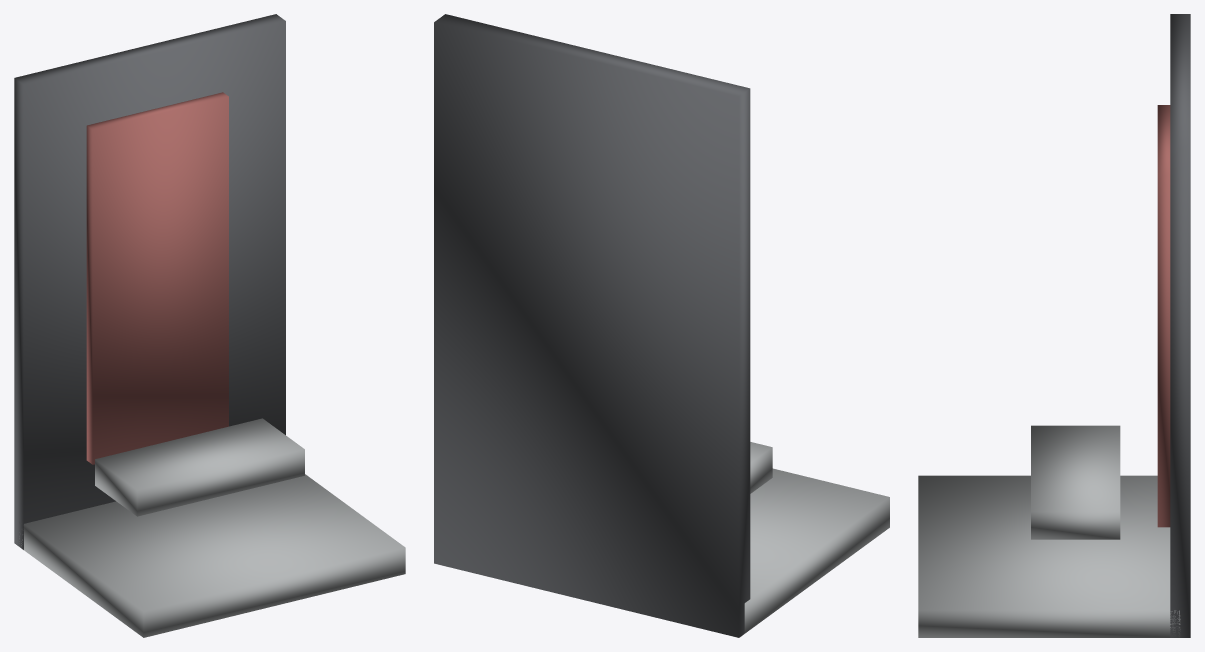
The model's file is roof_access_hatch_stair_02.glb.
3 views of the same model, side by side, from view 1: azimuth 30°, elevation 25°; view 2: azimuth 150°, elevation 25°; view 3: azimuth 270°, elevation 25° (orthographic). The views are drawn at different scales.
Visible parts, largest first — view 1: world; view 2: world; view 3: world.
Boxes of the visible parts, x1,y1,x2,y2 form: world: [14, 14, 405, 637]; world: [434, 14, 889, 637]; world: [918, 14, 1190, 637].
Bounding box in the file's own units: 1.25 × 2.12 × 1.07.
